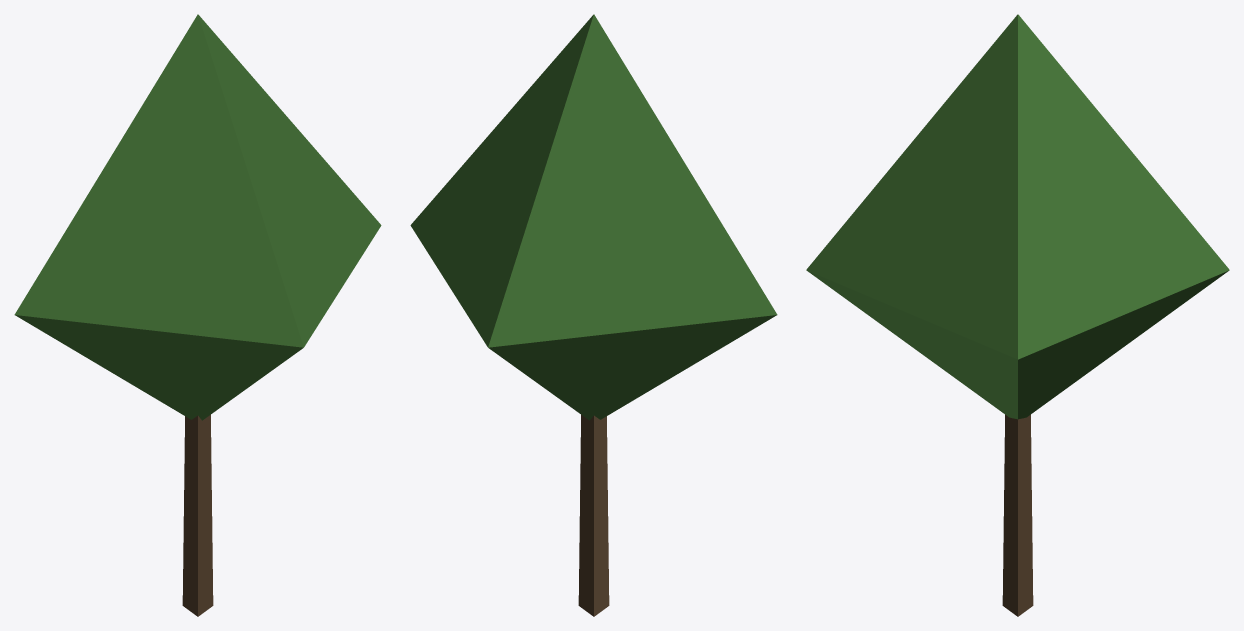
File: tree_round_far.glb
The picture shows the model from 3 angles, left to right: view 1: azimuth 30°, elevation 25°; view 2: azimuth 150°, elevation 25°; view 3: azimuth 270°, elevation 25°; orthographic projection.
Visible parts, largest first — view 1: tree_round_far; view 2: tree_round_far; view 3: tree_round_far.
Part boxes in pixels (bbox=[...]): tree_round_far: bbox=[14, 14, 381, 616]; tree_round_far: bbox=[410, 14, 777, 616]; tree_round_far: bbox=[806, 14, 1229, 616].
Size of the model in its own units: 6 by 9.3 by 6.
1 material, 1 textured.
